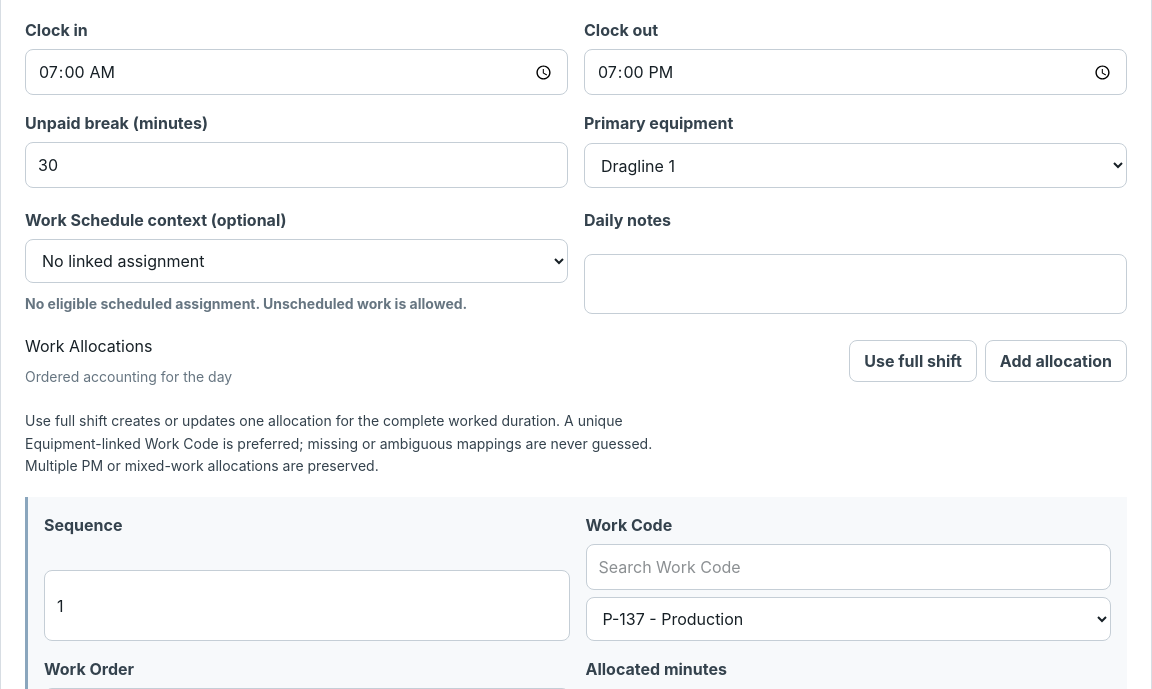
Test: TimesheetForm › preserves multiple PM allocations instead of collapsing them
(page scrolled)
Click the button "Use full shift" at [913, 361], box [849,340,977,382]
(page scrolled)
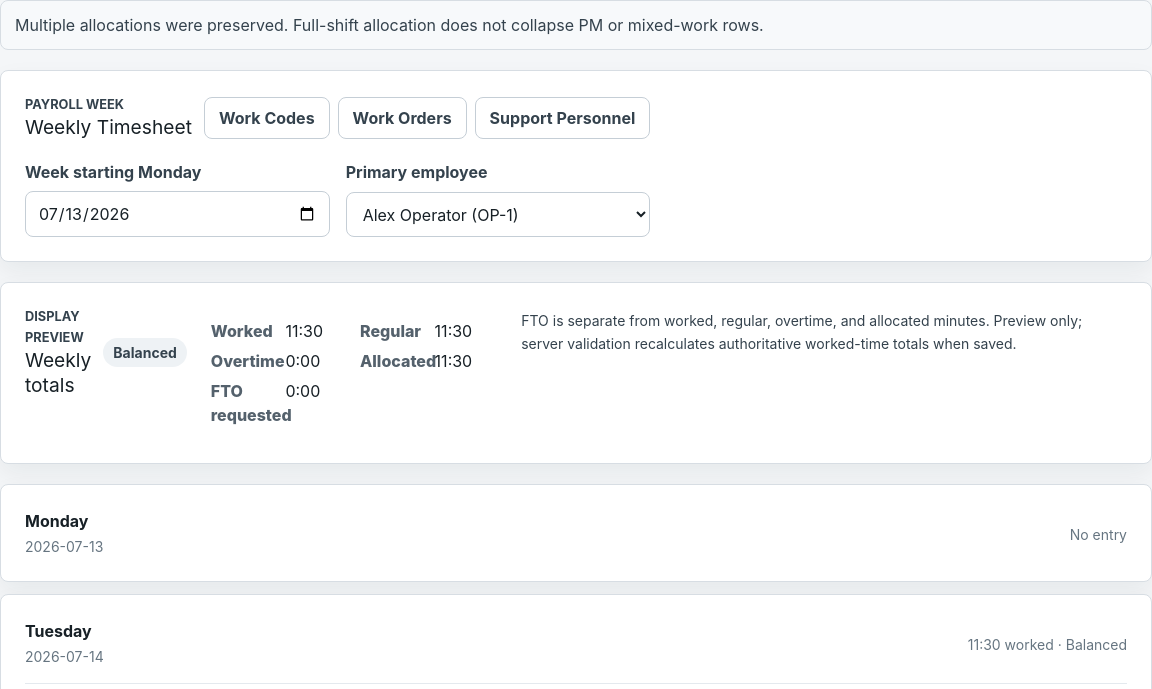
Expected: the text "Multiple allocations were preserved" is shown, [15,15,764,35]
